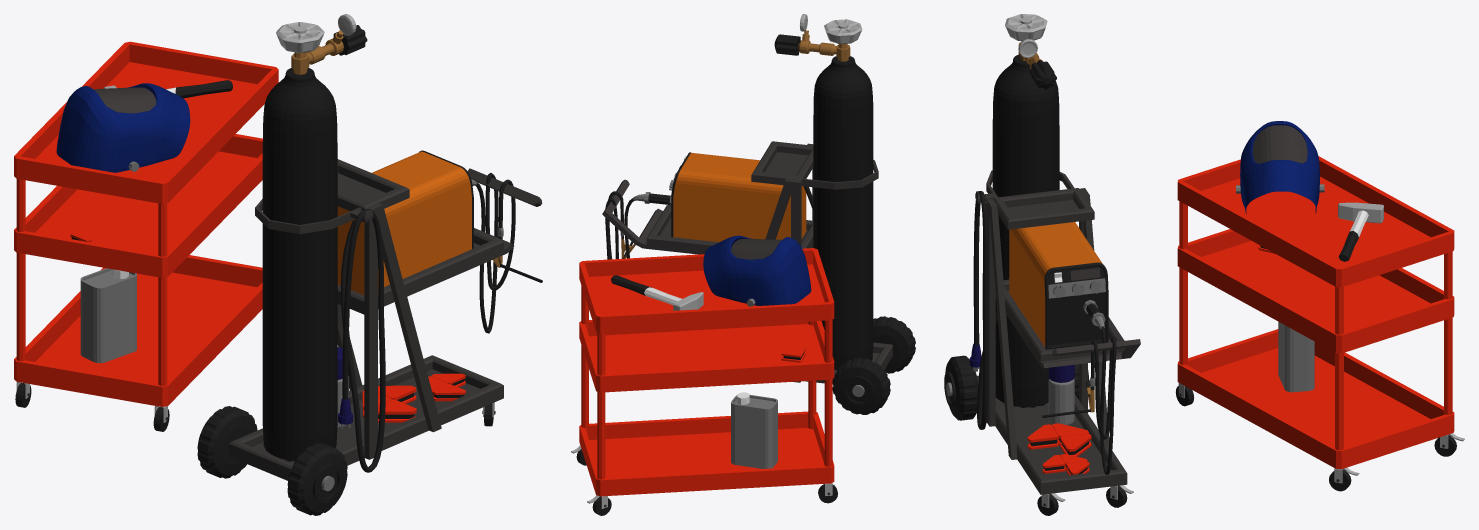
The model's file is gas.glb.
3 renders of one model, left to right at view 1: azimuth 30°, elevation 25°; view 2: azimuth 150°, elevation 25°; view 3: azimuth 270°, elevation 25°, orthographic. The views are drawn at different scales.
Parts seen in each view (by area): view 1: Cylinder.080, Cube.250, Cube.252, Cube.251, Cube.105, Cube.221, Plane.066, Cylinder.086, Cube.285, BezierCurve, Plane.067, Plane.069 (+8 smaller); view 2: Cylinder.080, Cube.250, Cube.251, Cube.252, Cube.105, Cube.221, Cylinder.086, Cube.285, Plane.067, Plane.068, Cylinder.218, Cylinder.217 (+10 smaller); view 3: Cube.250, Cube.252, Cube.251, Cylinder.080, Cube.105, Plane.066, Cube.106, Cube.221, Plane.068, Plane.069, Plane.067, Cylinder.218 (+10 smaller).
Boxes of the visible parts, <box> form: Cylinder.080: <box>262,68,337,461</box>; Cube.250: <box>14,255,262,406</box>; Cube.252: <box>14,41,278,203</box>; Cube.251: <box>14,134,262,277</box>; Cube.105: <box>337,151,471,295</box>; Cube.221: <box>56,83,190,172</box>; Plane.066: <box>228,355,503,480</box>; Cylinder.086: <box>197,406,347,515</box>; Cube.285: <box>80,268,136,363</box>; BezierCurve: <box>340,209,385,472</box>; Plane.067: <box>337,168,542,314</box>; Plane.069: <box>337,203,441,432</box>; Cylinder.080: <box>813,56,873,370</box>; Cube.250: <box>579,411,834,496</box>; Cube.251: <box>579,320,834,392</box>; Cube.252: <box>579,248,834,333</box>; Cube.105: <box>673,153,806,242</box>; Cube.221: <box>703,235,811,305</box>; Cylinder.086: <box>832,316,915,414</box>; Cube.285: <box>731,395,777,468</box>; Plane.067: <box>602,179,813,254</box>; Plane.068: <box>751,141,813,185</box>; Cylinder.218: <box>581,286,605,479</box>; Cylinder.217: <box>808,320,832,466</box>; Cube.250: <box>1177,329,1454,469</box>; Cube.252: <box>1177,156,1454,287</box>; Cube.251: <box>1177,229,1454,353</box>; Cylinder.080: <box>992,54,1059,407</box>; Cube.105: <box>1009,222,1102,346</box>; Plane.066: <box>977,375,1127,494</box>; Cube.106: <box>1044,262,1108,349</box>; Cube.221: <box>1240,121,1319,213</box>; Plane.068: <box>993,188,1094,229</box>; Plane.069: <box>988,192,1109,459</box>; Plane.067: <box>995,279,1140,368</box>; Cylinder.218: <box>1335,251,1452,450</box>.
Size of the model in its own units: 1.58 by 1.73 by 2.
